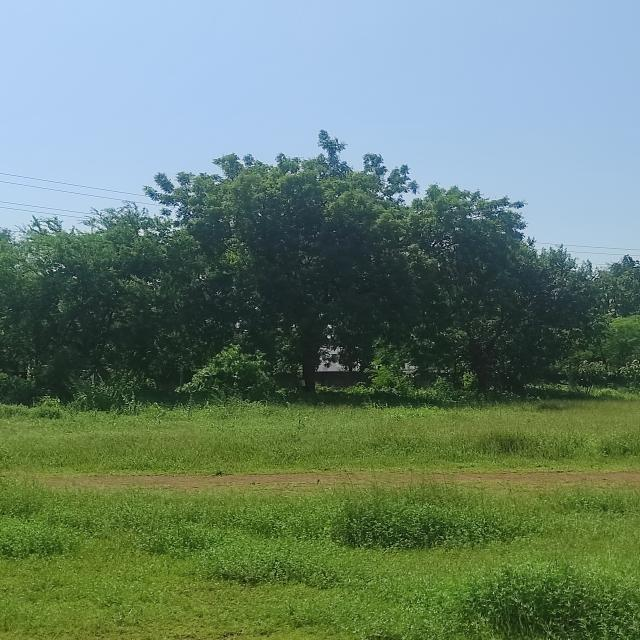Neem-Tree: (198, 170, 440, 322)
